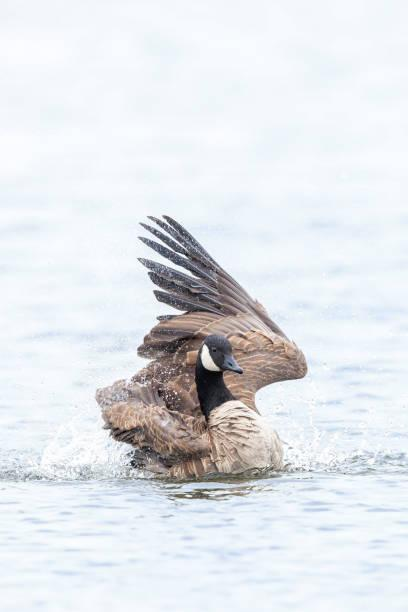Canadian-Goose: (95, 213, 308, 475)
